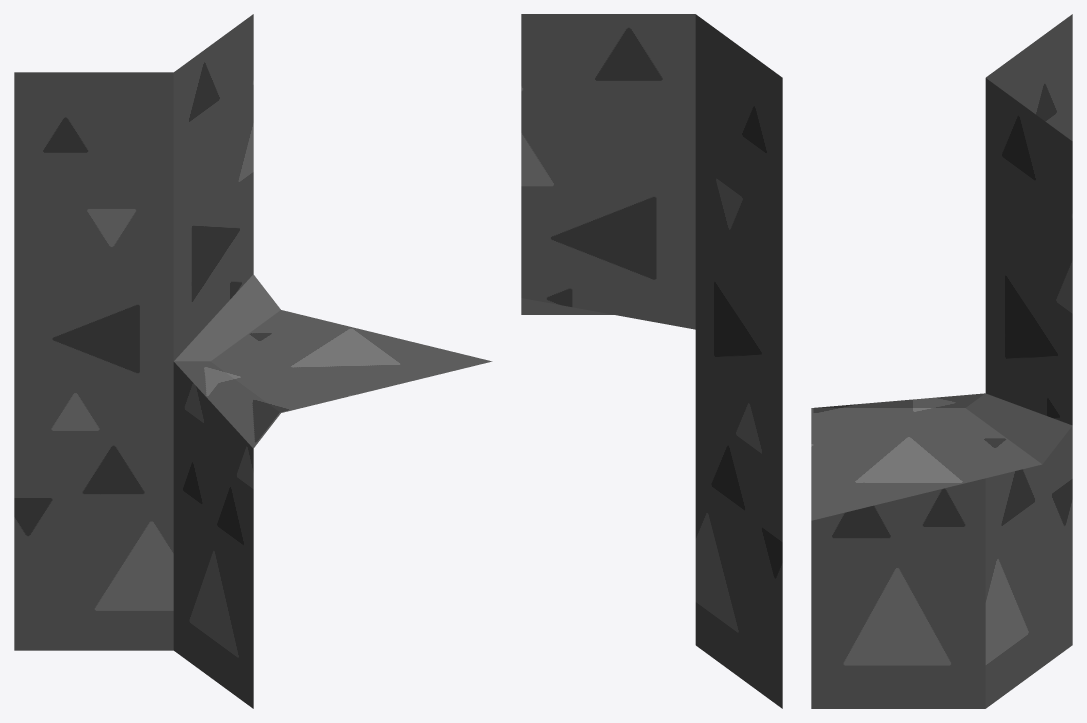
Rendered from wfc_tile_descent_cw.obj.
3 renders of one model, left to right at view 1: azimuth 30°, elevation 25°; view 2: azimuth 150°, elevation 25°; view 3: azimuth 270°, elevation 25°, orthographic. The views are drawn at different scales.
Visible parts, largest first — view 1: 201; view 2: 201; view 3: 201.
Boxes of the visible parts, box(x1,y1,x2,y2) form: 201: box(14, 14, 492, 708); 201: box(521, 14, 782, 708); 201: box(811, 14, 1072, 708).
Size of the model in its own units: 1.3 by 2 by 0.75.
1 material, 1 textured.
